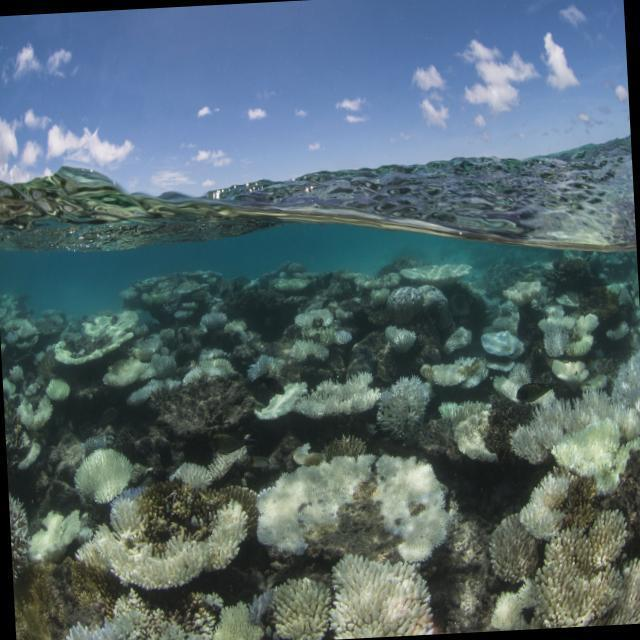Bleached Coral: (86, 521, 270, 600), (266, 442, 371, 551), (538, 511, 634, 629), (379, 442, 460, 573), (334, 554, 438, 635), (253, 370, 378, 430), (68, 439, 142, 519), (68, 602, 212, 640), (509, 406, 583, 472), (514, 465, 574, 544), (267, 571, 333, 640), (442, 394, 502, 466), (560, 420, 624, 484), (370, 374, 439, 431), (535, 304, 598, 363), (418, 345, 490, 393), (490, 512, 535, 580), (609, 347, 640, 437), (179, 342, 238, 385), (33, 512, 81, 557), (55, 338, 136, 364), (402, 259, 467, 290), (211, 607, 265, 640), (103, 357, 149, 393), (84, 307, 139, 334), (482, 326, 523, 360), (17, 399, 57, 431), (246, 354, 282, 389), (290, 339, 332, 369), (492, 590, 522, 631), (123, 385, 185, 404), (553, 358, 585, 394), (439, 323, 475, 355), (505, 278, 544, 306), (385, 322, 415, 358), (242, 592, 277, 621), (150, 348, 180, 381), (295, 311, 336, 330), (46, 378, 74, 405), (603, 318, 629, 347), (609, 282, 636, 309), (19, 445, 46, 471), (134, 333, 159, 360), (227, 317, 252, 342), (204, 310, 229, 333), (371, 283, 388, 310), (17, 316, 37, 337), (12, 361, 29, 384), (335, 329, 352, 348), (3, 377, 18, 393)
